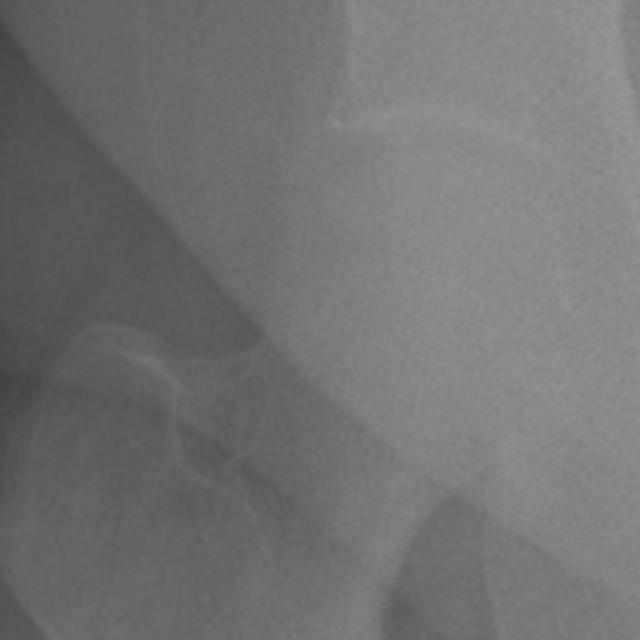Fitted_femural_head: (336, 150, 432, 336)
